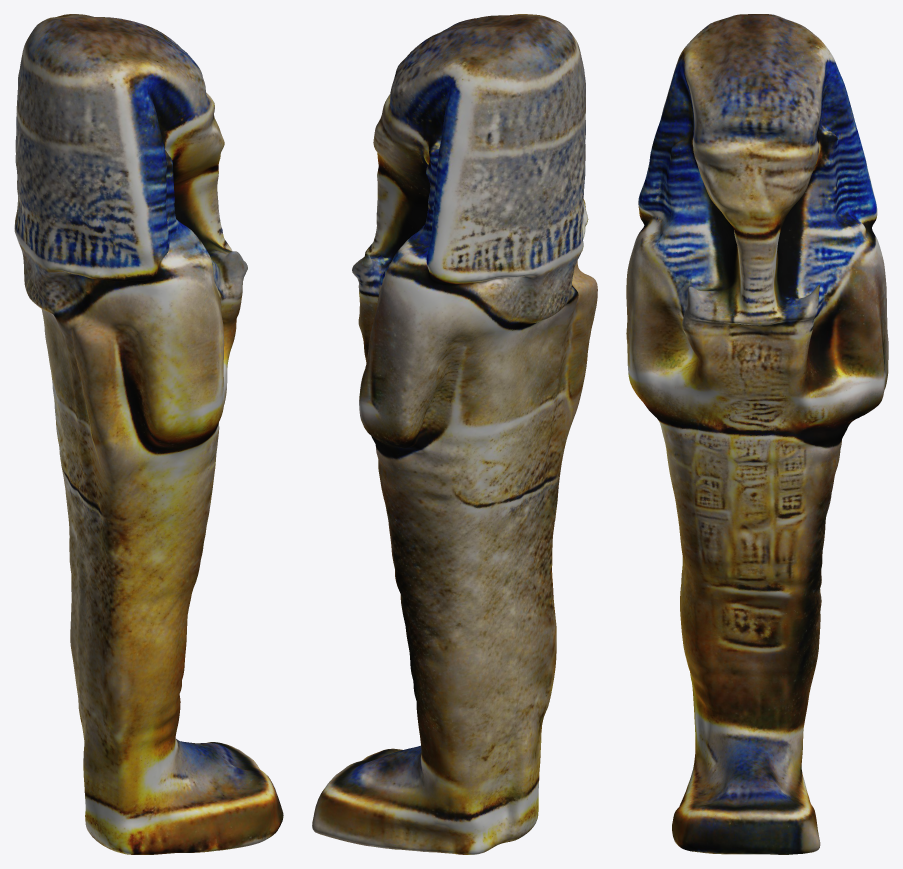
The model's file is 529261b47f58_A_pharao_statue_min.fbx.
The picture shows the model from 3 angles, left to right: view 1: azimuth 30°, elevation 25°; view 2: azimuth 150°, elevation 25°; view 3: azimuth 270°, elevation 25°; orthographic projection. The views are drawn at different scales.
Visible parts, largest first — view 1: high_poly; view 2: high_poly; view 3: high_poly.
Boxes of the visible parts, box(x1,y1,x2,y2) form: high_poly: box(14, 14, 283, 854); high_poly: box(312, 14, 597, 854); high_poly: box(626, 14, 888, 854).
Size of the model in its own units: 28.88 by 100 by 31.15.
